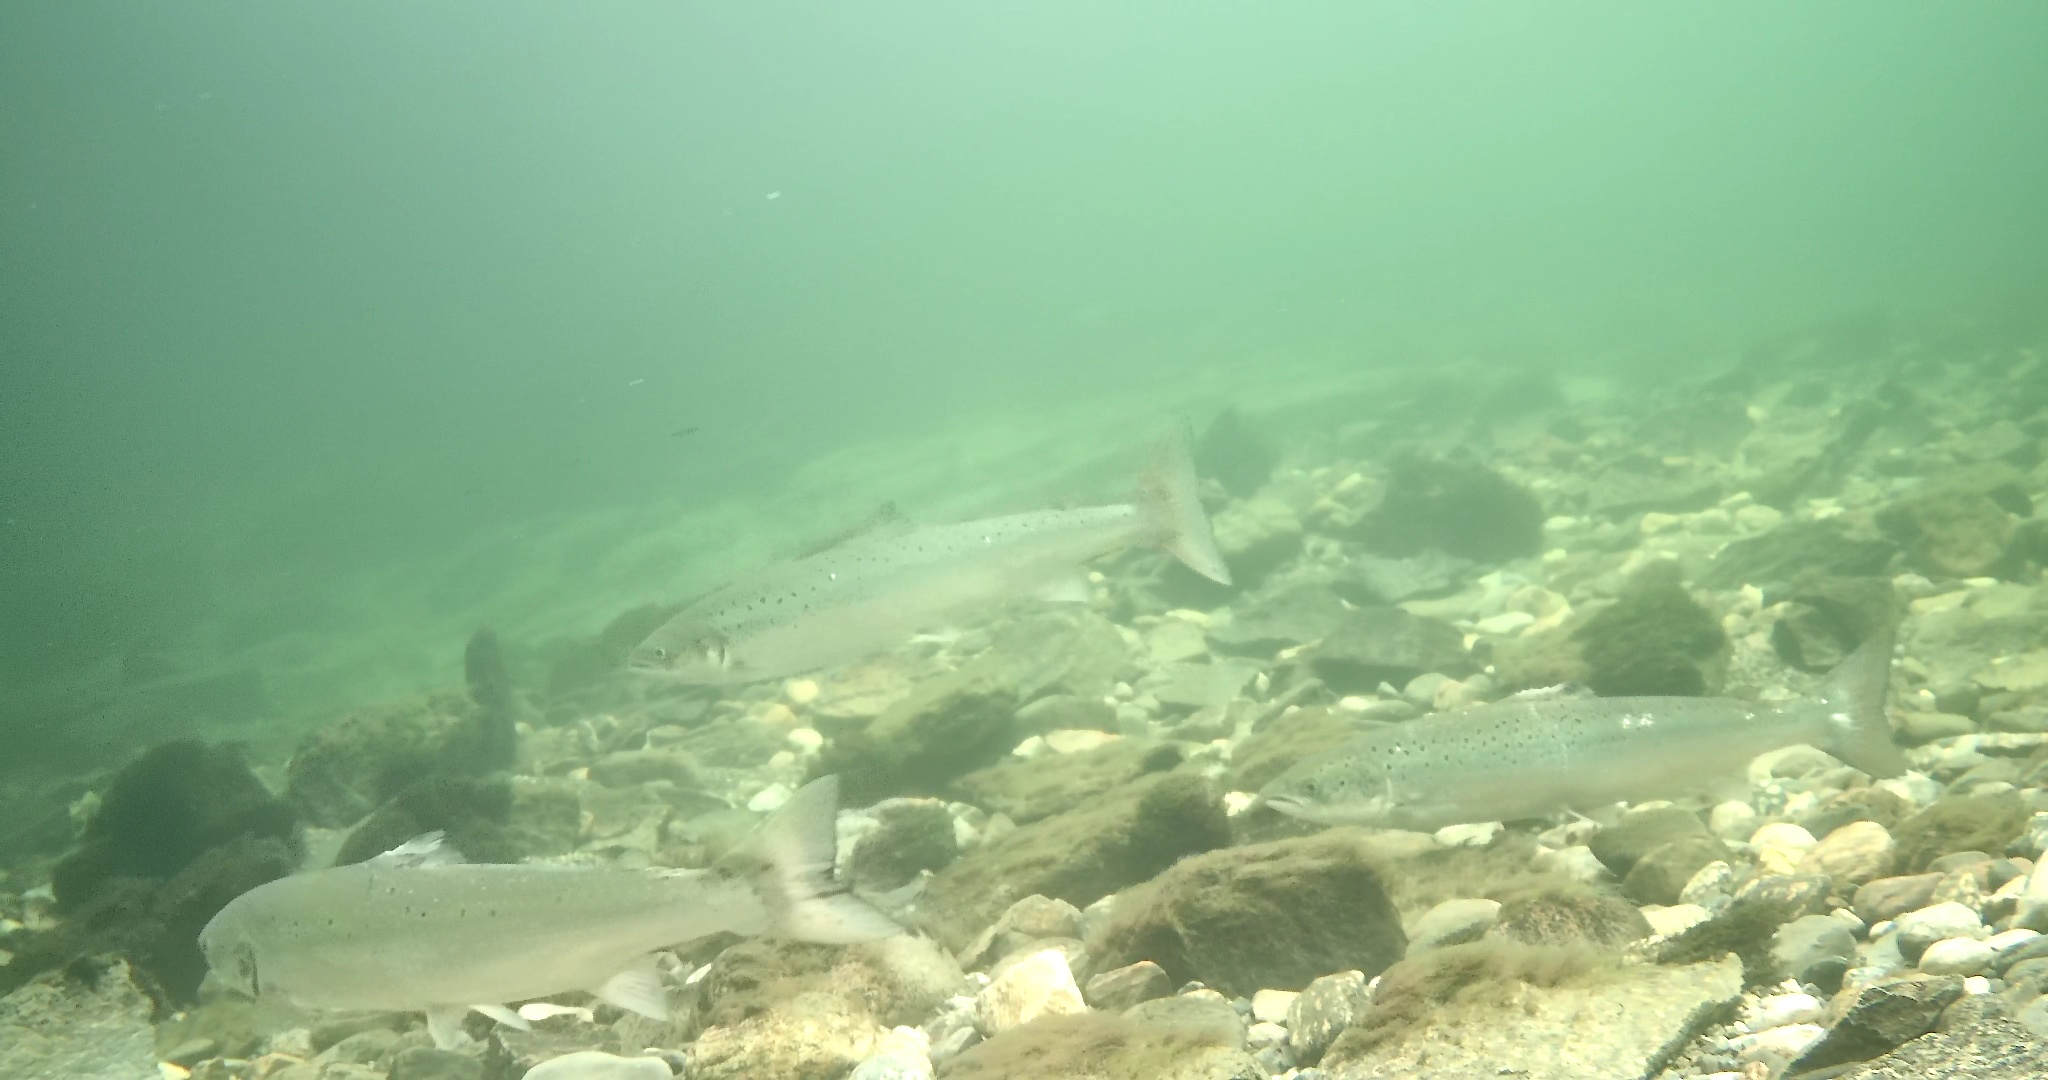salmon: (198, 771, 903, 1024), (624, 415, 1237, 688), (1260, 621, 1908, 833)
